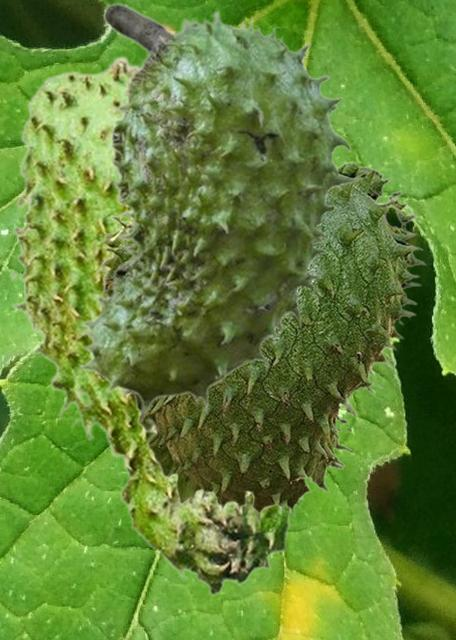guyabano: (8, 54, 307, 596), (100, 159, 426, 523), (76, 2, 361, 416)
